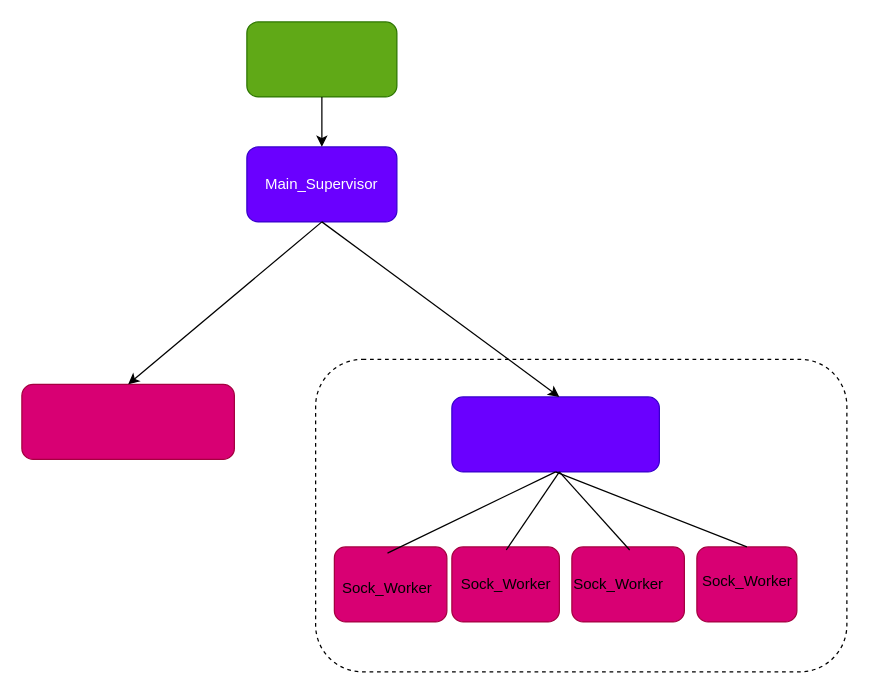
Image size: 869x694. Some labels were removed from this diagram. The shapes that lost their labels are listed below. From the top down, each one's centre as x and y in pixels, then its label:
At point 321,59: "Sock_App".
At point 127,421: "Sock_Server".
At point 555,434: "Worker_Supervisor".
